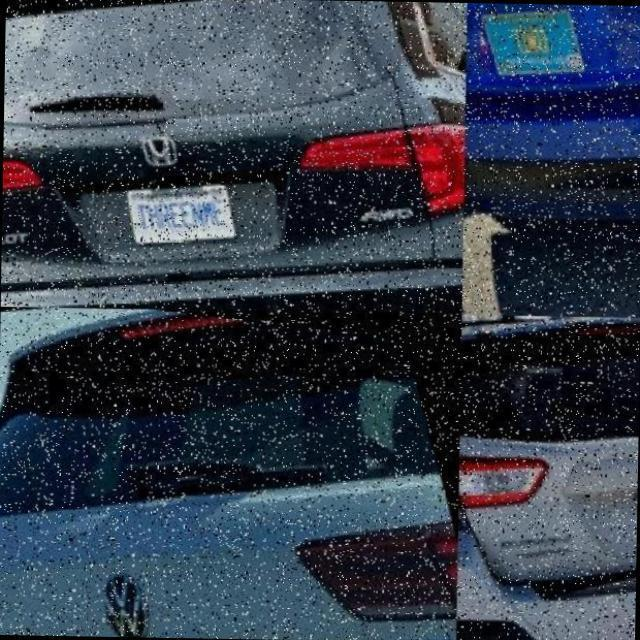License Plate: (118, 175, 230, 239), (473, 3, 577, 67)
